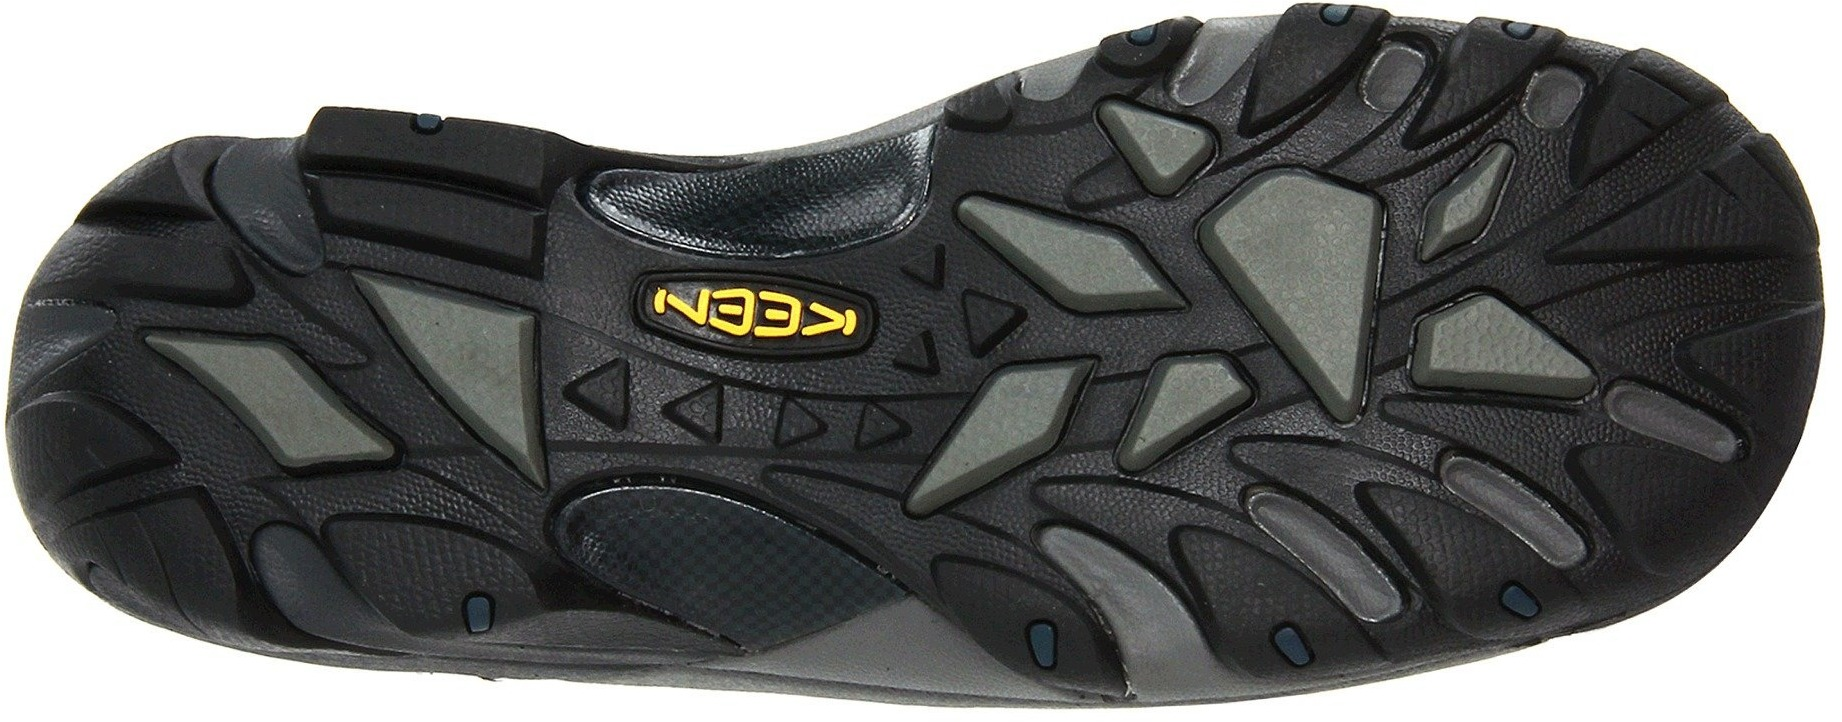other: (646, 512, 775, 632)
quad: (1391, 258, 1619, 425), (1105, 331, 1269, 490)
ribbon: (1513, 160, 1678, 326)
text: (677, 269, 780, 375), (796, 272, 898, 372)
triangle: (562, 345, 722, 490), (786, 376, 913, 497), (920, 243, 1029, 356)
